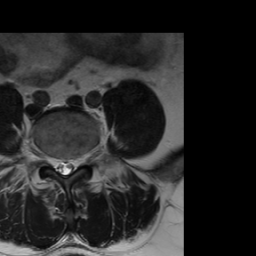CCS_normal: (61, 151, 68, 182)
LFS_normal: (76, 145, 84, 173)
LLS_normal: (68, 150, 76, 179)
RFS_normal: (46, 146, 54, 174)
RLS_normal: (54, 149, 61, 179)
